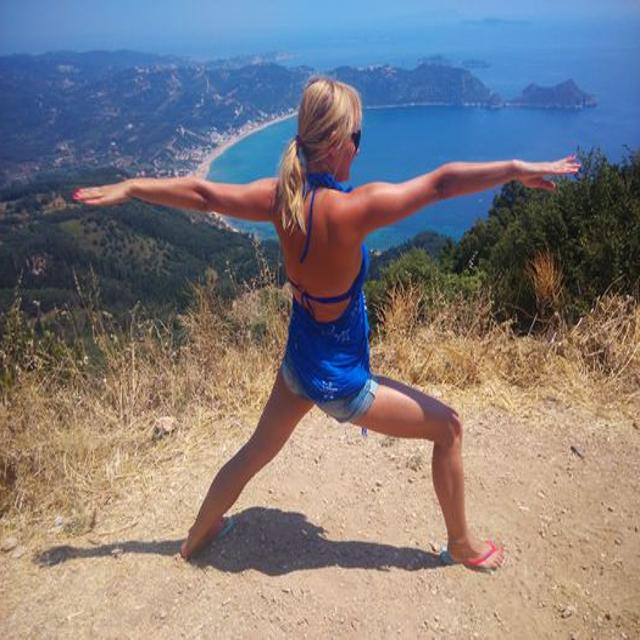Warrior_II: (74, 77, 587, 582)
